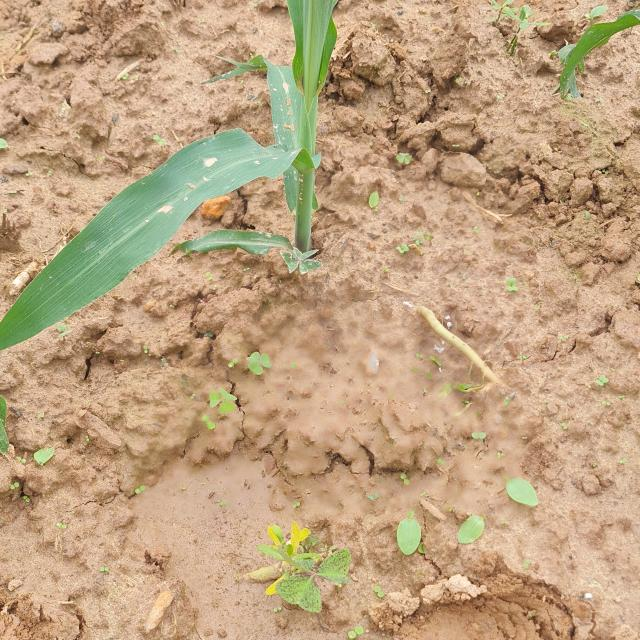maize: (8, 1, 414, 347), (547, 0, 640, 83)
weed: (223, 507, 361, 640), (388, 480, 536, 545), (474, 3, 545, 56), (190, 371, 247, 431), (230, 340, 286, 374)
